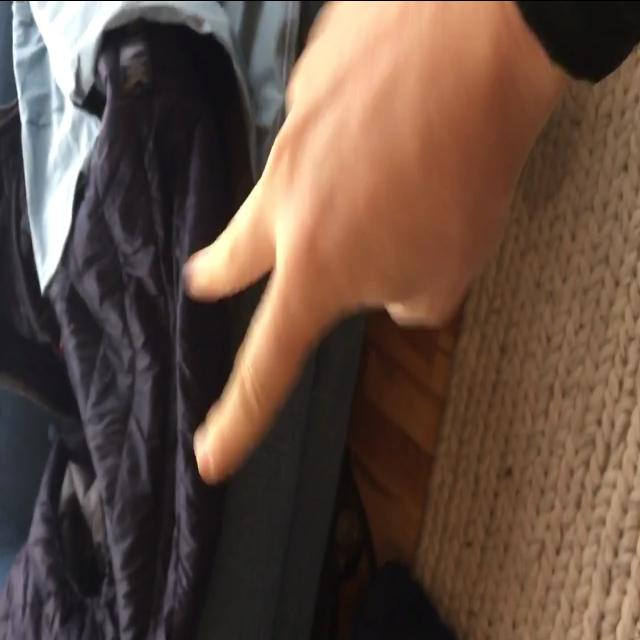Scissors: (185, 0, 521, 487)
